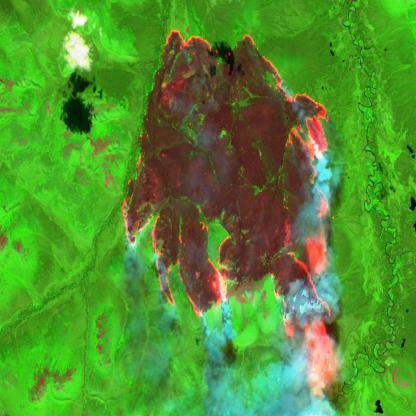fire: (118, 25, 342, 401)
